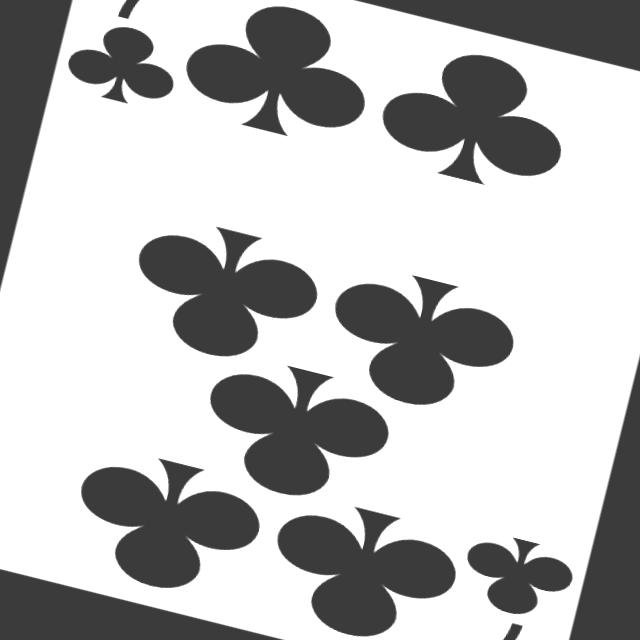Club: (315, 258, 524, 426), (190, 349, 400, 516), (62, 441, 270, 609), (372, 35, 580, 202), (119, 210, 328, 376), (174, 0, 384, 153), (258, 490, 466, 640), (61, 15, 185, 114), (456, 526, 578, 626)
